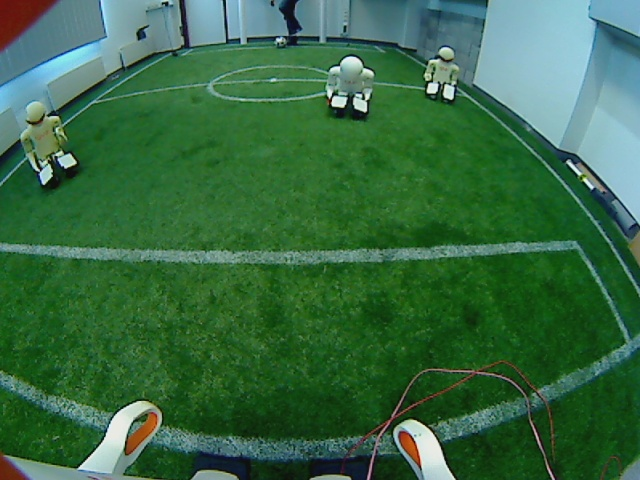ball: (271, 33, 291, 51)
robot: (14, 96, 85, 194), (319, 49, 376, 119), (421, 45, 464, 108)
